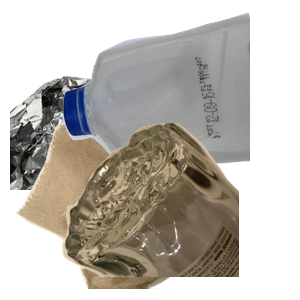glass: (60, 120, 300, 300)
metal: (10, 73, 212, 253)
plastic: (60, 10, 300, 175)
trash: (14, 120, 222, 300)
